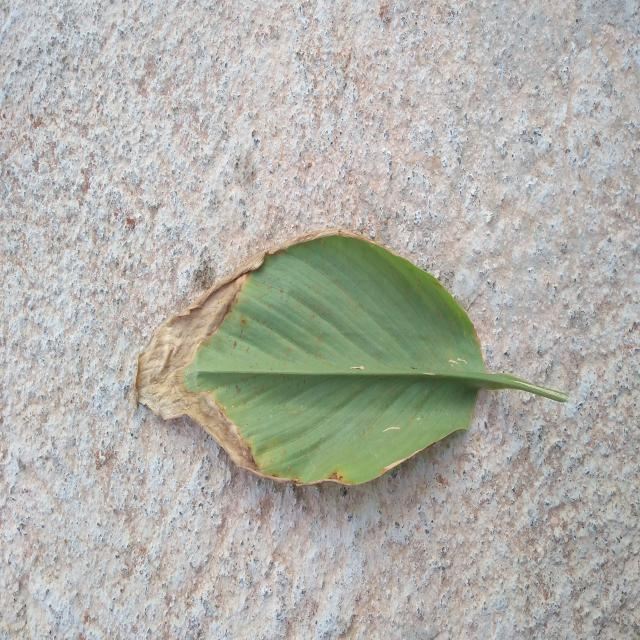leaf blotch: (136, 231, 565, 484)
